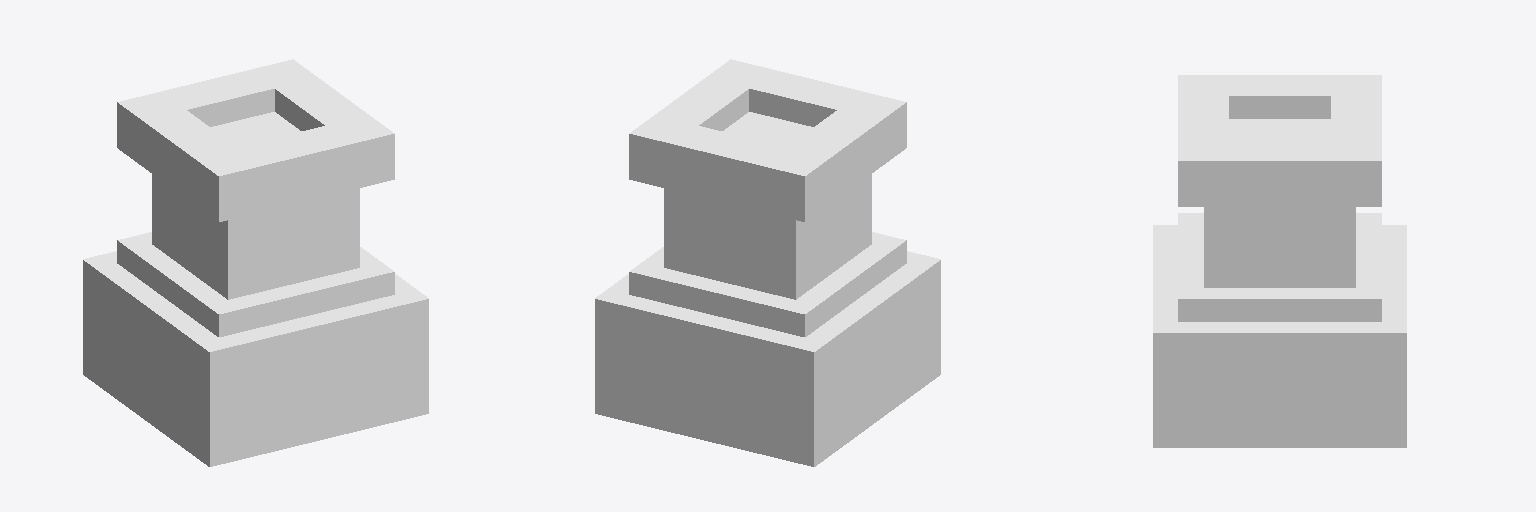
File: dzban1.obj
The picture shows the model from 3 angles: view 1: azimuth 30°, elevation 25°; view 2: azimuth 150°, elevation 25°; view 3: azimuth 270°, elevation 25°; orthographic projection.
Parts seen in each view (by area): view 1: object 1; view 2: object 1; view 3: object 1.
Part boxes in pixels (x1,y1,x2,y2): object 1: (83,59,428,466); object 1: (595,59,940,466); object 1: (1153,75,1406,447).
Size of the model in its own units: 1 by 1.2 by 1.